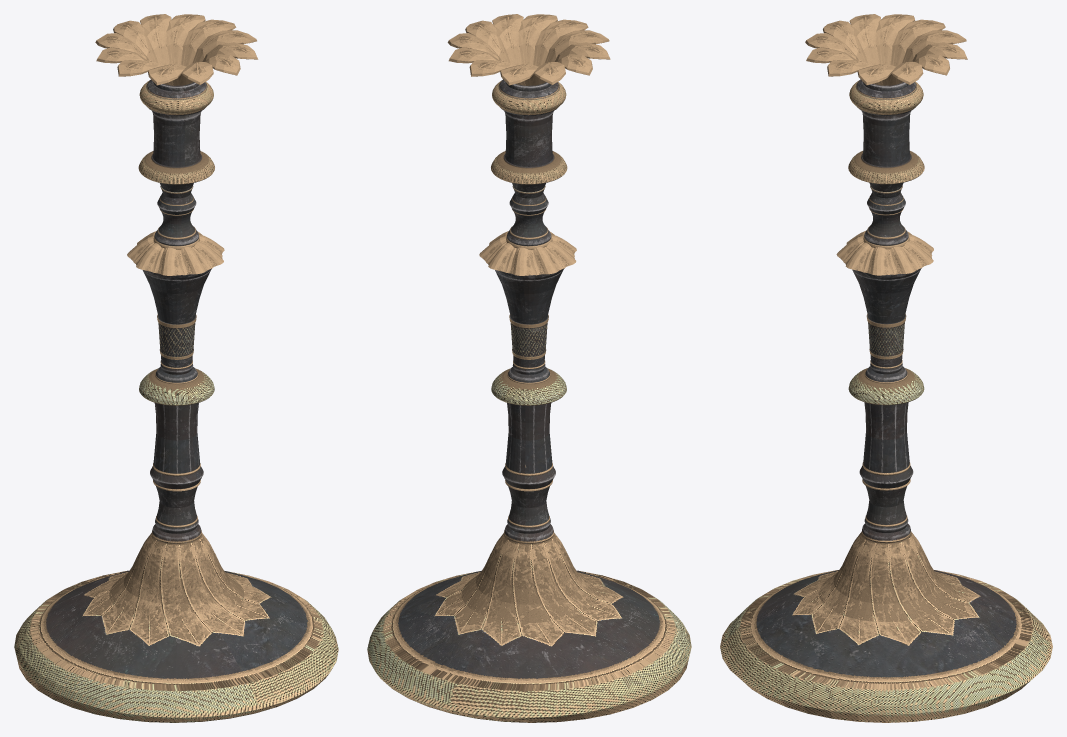
File: candlestick_lowpoly_final copy.obj
3 renders of one model, left to right at view 1: azimuth 30°, elevation 25°; view 2: azimuth 150°, elevation 25°; view 3: azimuth 270°, elevation 25°, orthographic.
Visible parts, largest first — view 1: lowpoly1; view 2: lowpoly1; view 3: lowpoly1.
Part boxes in pixels (x1,y1,x2,y2): lowpoly1: (14, 14, 338, 722); lowpoly1: (367, 14, 691, 722); lowpoly1: (720, 14, 1052, 722).
Bounding box in the file's own units: 3.42 × 7.21 × 3.55.
Materials: 1 (1 with a texture image).
